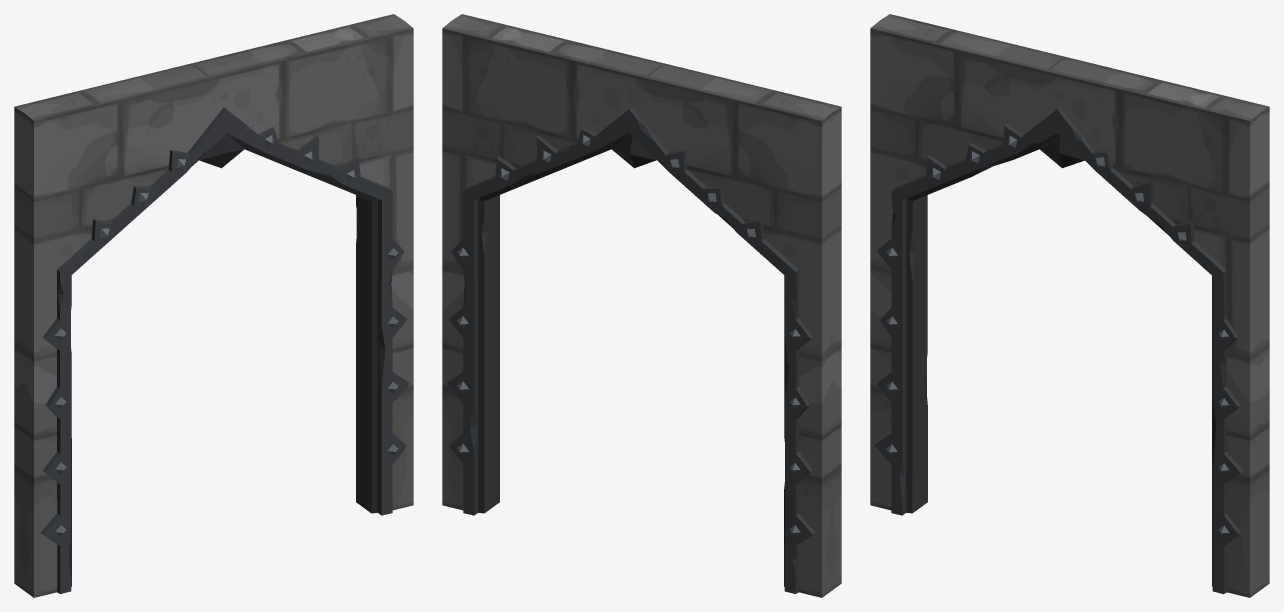
File: wall_door.gltf
3 views of the same model, side by side, from view 1: azimuth 30°, elevation 25°; view 2: azimuth 150°, elevation 25°; view 3: azimuth 330°, elevation 25° (orthographic).
Parts seen in each view (by area): view 1: wall_door; view 2: wall_door; view 3: wall_door.
Part boxes in pixels (x1,y1,x2,y2): wall_door: (14,14,413,597); wall_door: (442,14,841,597); wall_door: (870,14,1269,597).
Bounding box in the file's own units: 2.5 × 3.01 × 0.3517.
2 materials, 2 textured.
